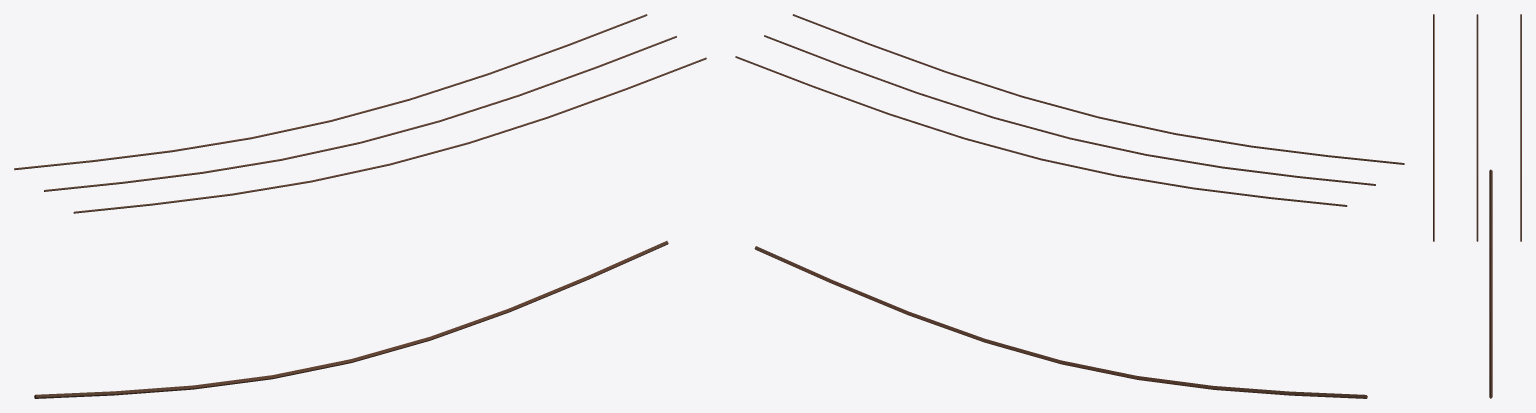
File: wires.fbx
The picture shows the model from 3 angles, left to right: view 1: azimuth 30°, elevation 25°; view 2: azimuth 150°, elevation 25°; view 3: azimuth 270°, elevation 25°; orthographic projection. The views are drawn at different scales.
Visible parts, largest first — view 1: wires; view 2: wires; view 3: wires.
Part boxes in pixels (x1,y1,x2,y2): wires: [14, 14, 706, 398]; wires: [735, 14, 1404, 398]; wires: [1433, 14, 1521, 398].
Bounding box in the file's own units: 8.01 × 3.11 × 1.32.
